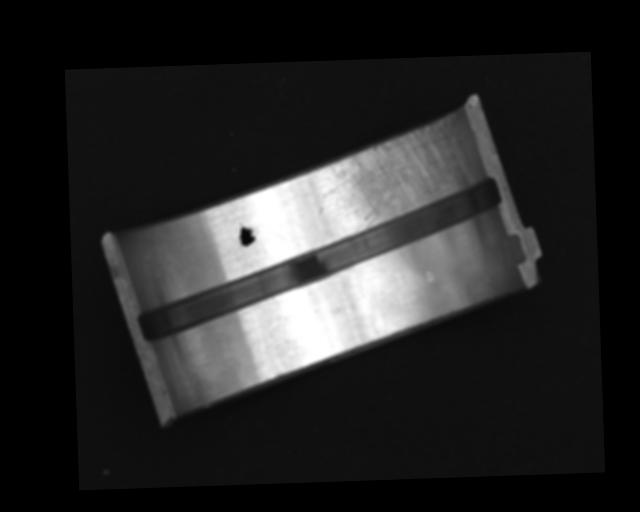blot: (237, 221, 258, 248)
bruise: (425, 269, 434, 282)
gap: (131, 178, 503, 341)
nick: (250, 305, 264, 350)
scratch: (316, 118, 462, 237)
